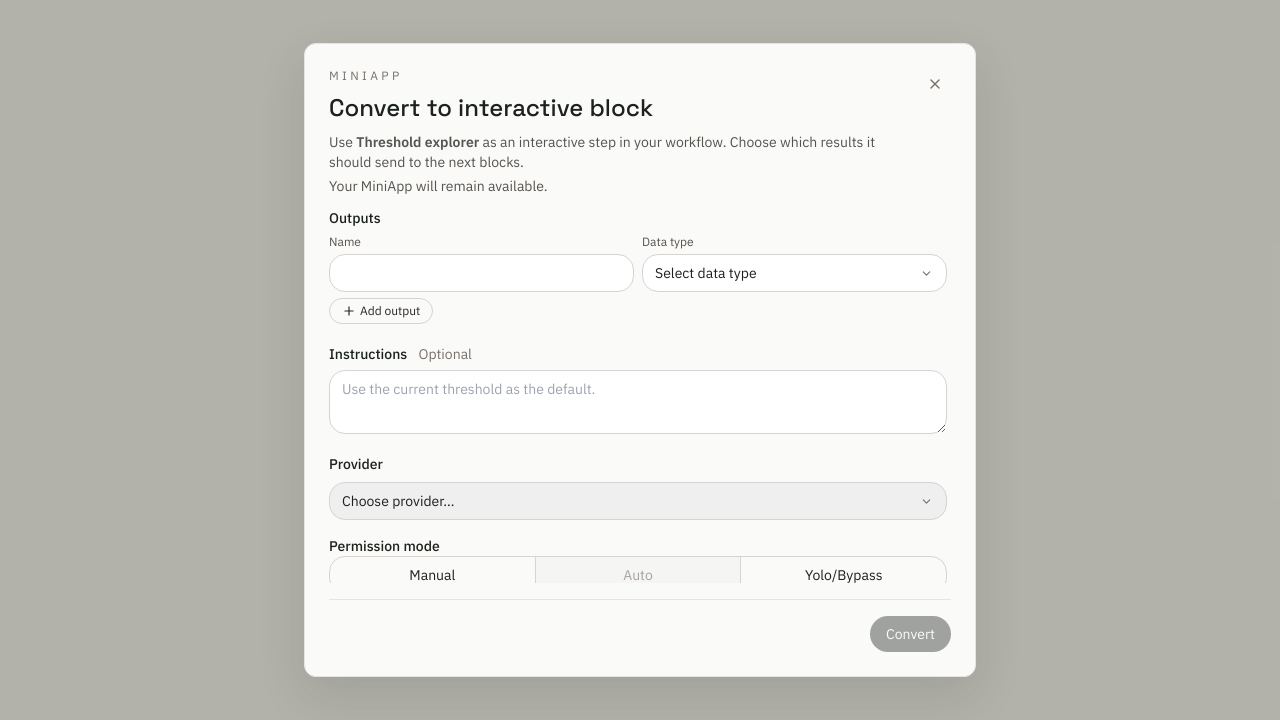
it: ConvertToBlockDialog (ADR-054 FR-036) › shows what the route said when the session cannot start
Expected: the dropdown with test id "setup-provider-select" is enabled, [329,482,947,520]
In the field with test id "miniapp-convert-name-0": (482, 273) [329,254,634,292], type "mask"
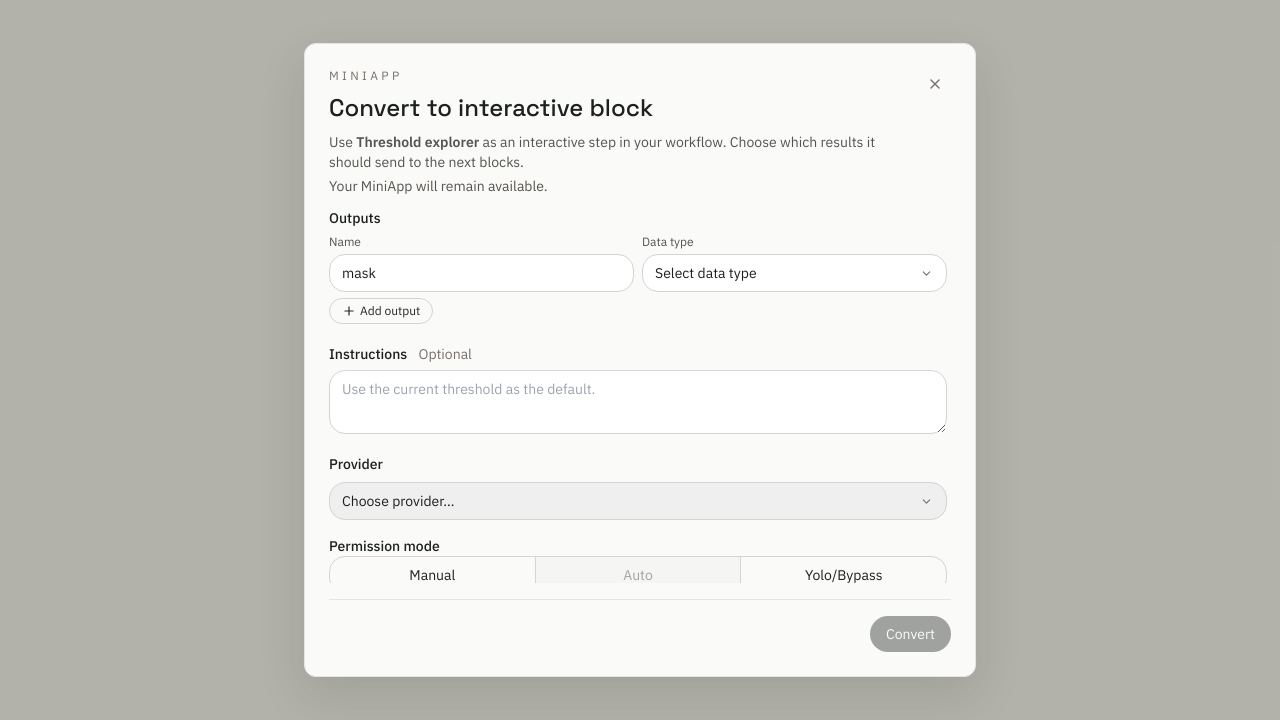
Select "Mask" in the dropdown with test id "miniapp-convert-type-0": (794, 273) [642,254,947,292]
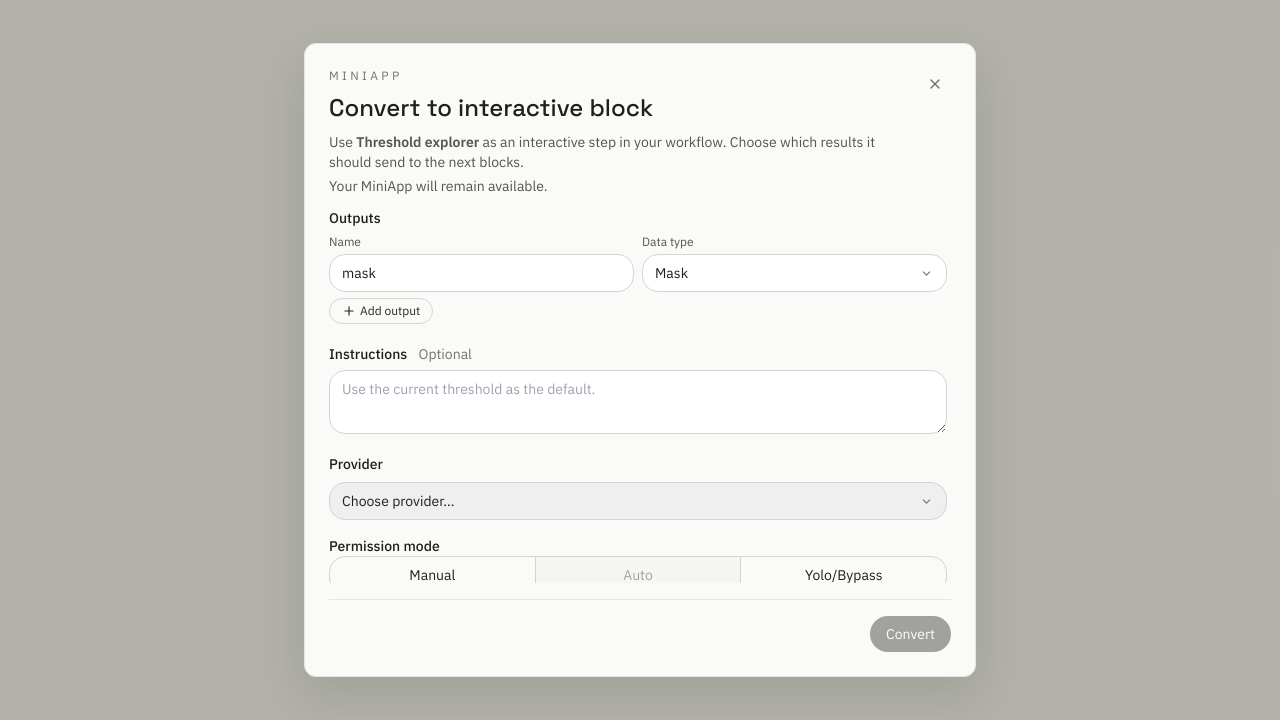
Select "Claude Code v9.9.9" in the dropdown with test id "setup-provider-select": (638, 501) [329,482,947,520]
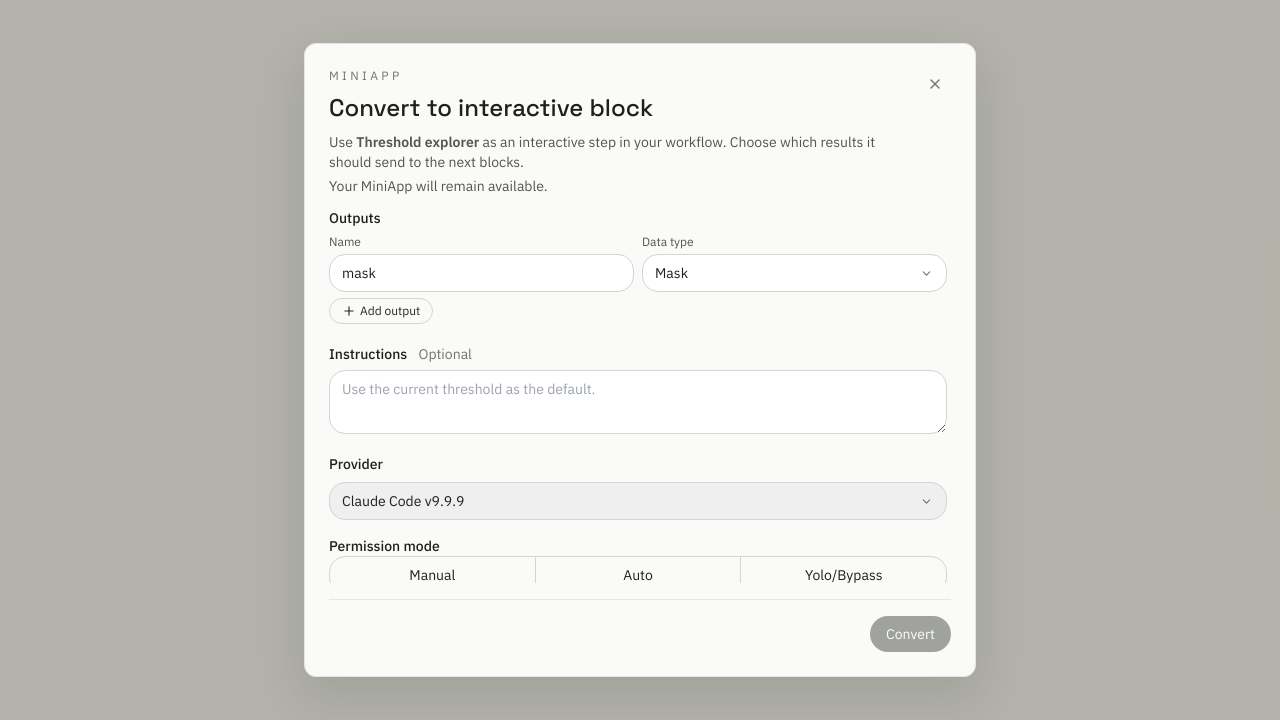
Click the radio button with test id "setup-permission-safe": (432, 575) [330,557,535,593]
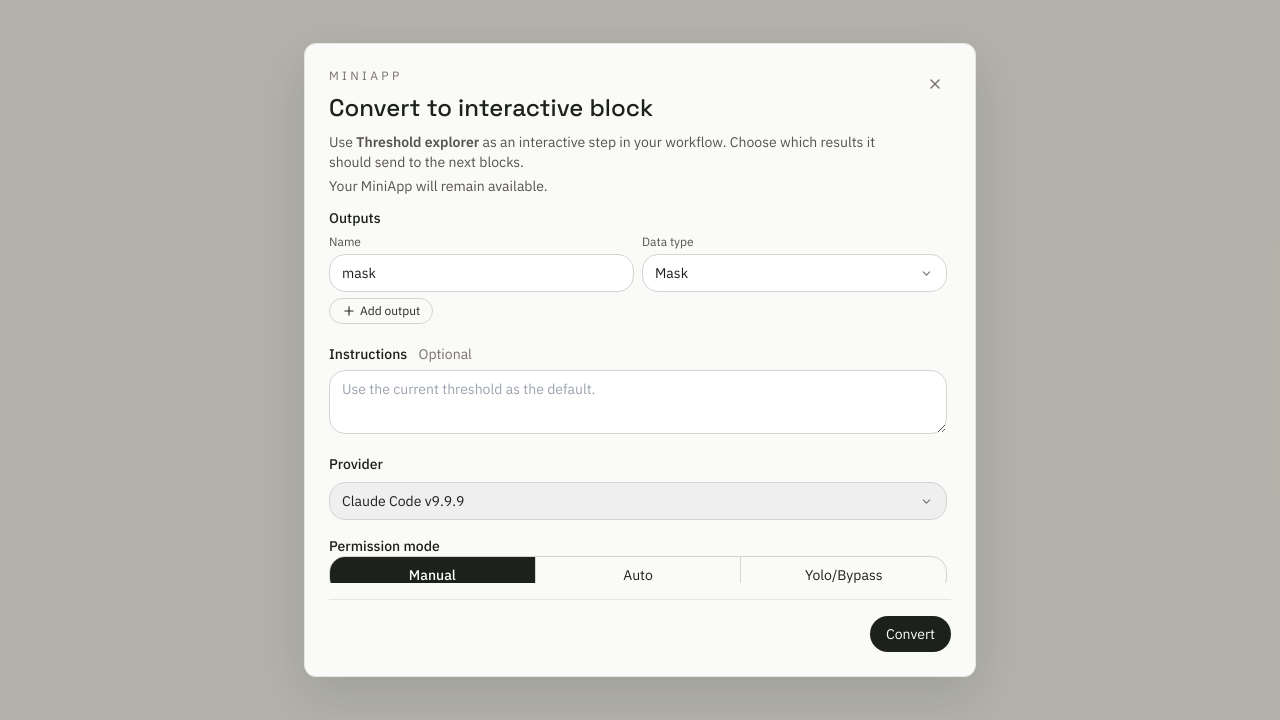
Click the button with test id "miniapp-convert-submit": (910, 634) [870,616,951,652]
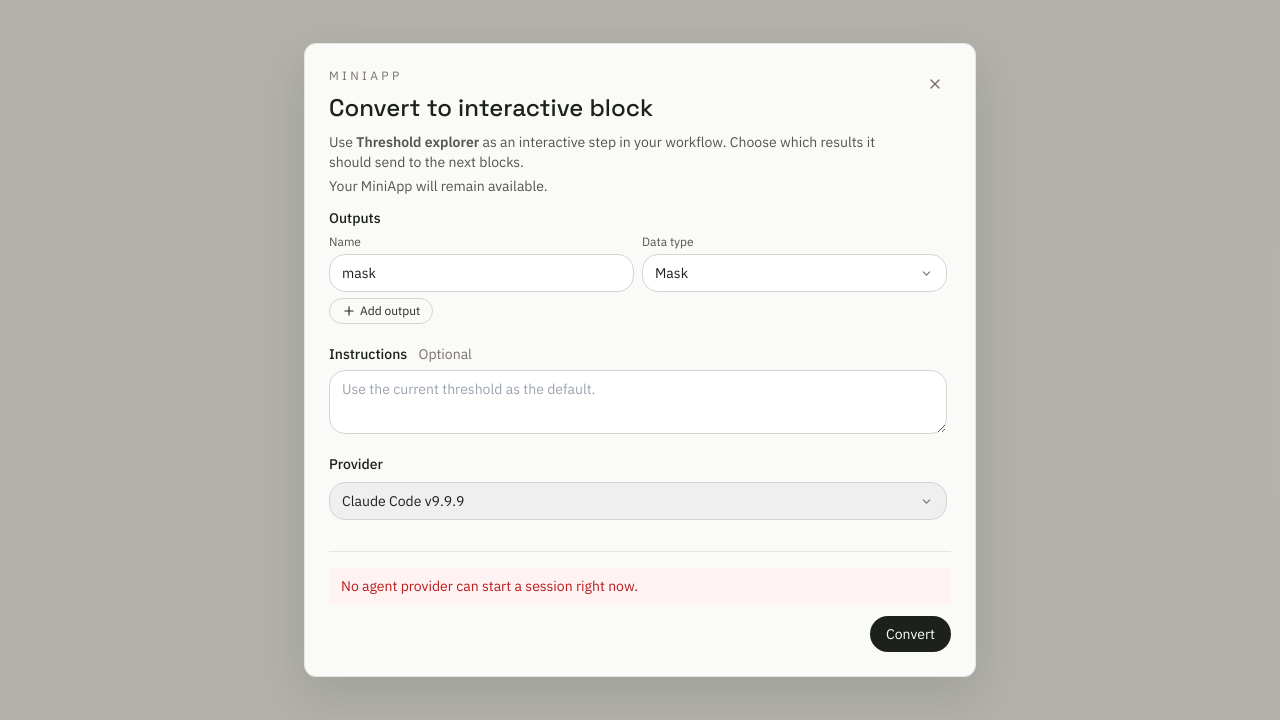
Result: the message with test id "miniapp-convert-error" reads "No agent provider can start a session right now." at [341,577,638,595]
